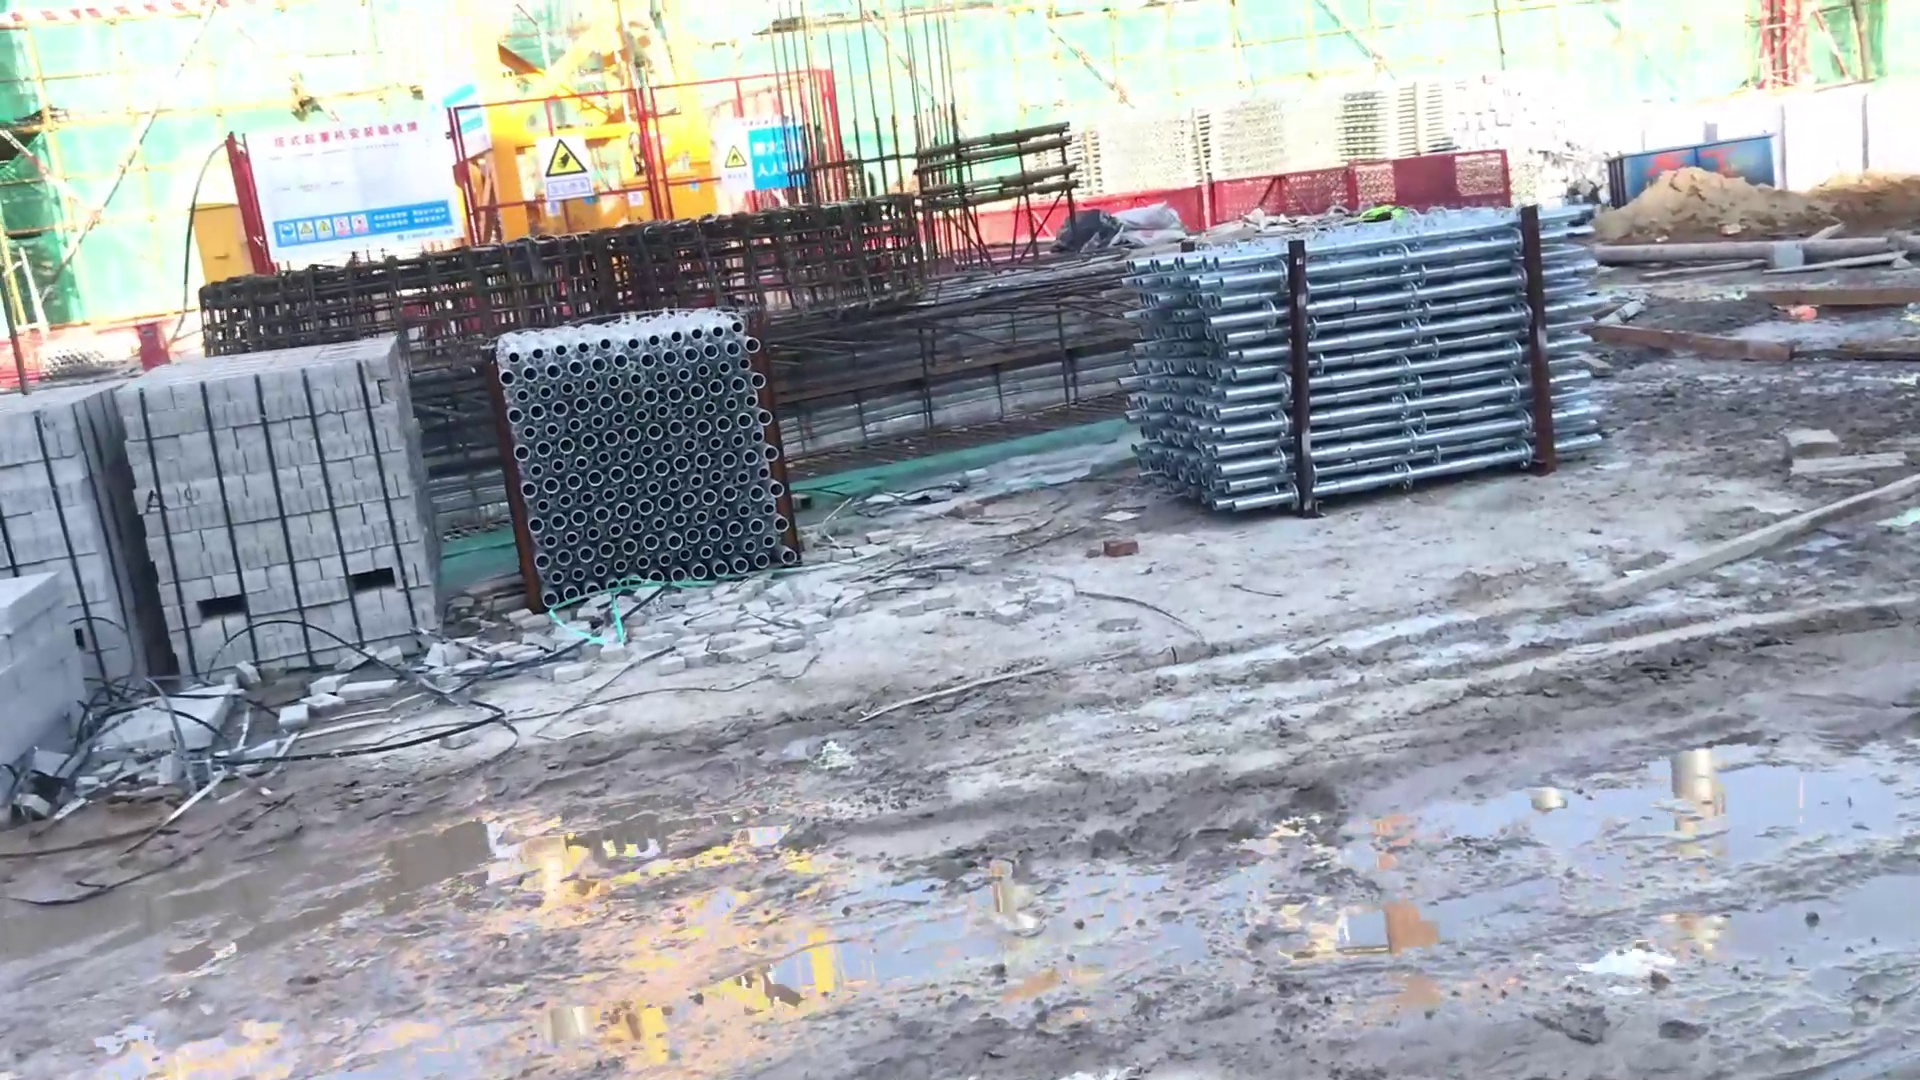brick: (121, 344, 458, 646), (1, 309, 129, 829)
ebox: (181, 191, 253, 284)
fence: (1201, 146, 1506, 212)
hopper: (1598, 136, 1785, 218)
scaffold: (1114, 237, 1683, 516), (469, 311, 822, 589)
slogan: (272, 208, 465, 255), (709, 138, 829, 208), (533, 137, 608, 207)
